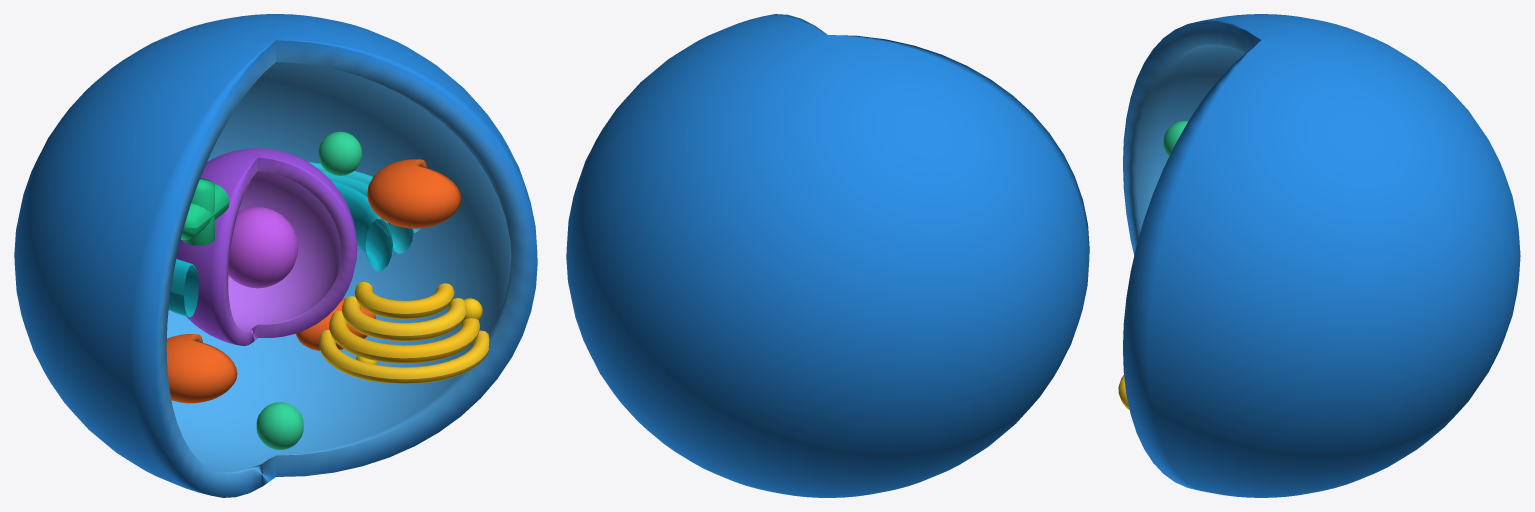
The model's file is 02_animal_cell_structure.glb.
3 renders of one model, left to right at view 1: azimuth 30°, elevation 25°; view 2: azimuth 150°, elevation 25°; view 3: azimuth 270°, elevation 25°, orthographic.
Parts seen in each view (by area): view 1: Plasma Membrane & Cytoplasm Cutaway, Nucleus, Nuclear Envelope & Nucleolus, Golgi Apparatus & Secretory Vesicles, Mitochondria with Inner Cristae Folds, Centrosome (Centrioles) & Lysosomes, Rough & Smooth Endoplasmic Reticulum; view 2: Plasma Membrane & Cytoplasm Cutaway; view 3: Plasma Membrane & Cytoplasm Cutaway, Centrosome (Centrioles) & Lysosomes.
Boxes of the visible parts, left/top/right/bottom form: Plasma Membrane & Cytoplasm Cutaway: left=14, top=14, right=537, bottom=497; Nucleus, Nuclear Envelope & Nucleolus: left=176, top=148, right=357, bottom=346; Golgi Apparatus & Secretory Vesicles: left=318, top=281, right=489, bottom=384; Mitochondria with Inner Cristae Folds: left=166, top=159, right=461, bottom=403; Centrosome (Centrioles) & Lysosomes: left=181, top=131, right=361, bottom=449; Rough & Smooth Endoplasmic Reticulum: left=168, top=161, right=420, bottom=317; Plasma Membrane & Cytoplasm Cutaway: left=566, top=14, right=1089, bottom=497; Plasma Membrane & Cytoplasm Cutaway: left=1123, top=14, right=1520, bottom=497; Centrosome (Centrioles) & Lysosomes: left=1163, top=105, right=1198, bottom=156.
Size of the model in its own units: 284 by 261 by 221.
